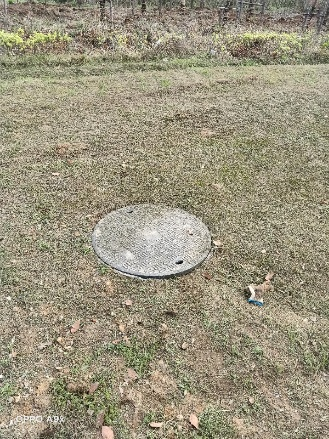good: (91, 203, 210, 276)
